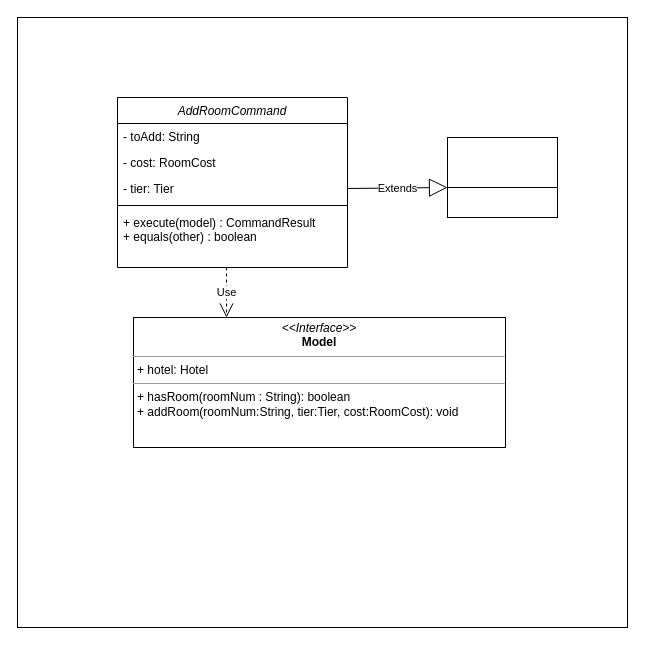
Some shapes in this 645 by 645 pixel diagram are drawn without their labels. The shapes that lost their labels are listed below. From the top down, each one's centre as x and y in pixels, then its label:
At (502,162): "{abstract} Command".
At (502,202): "+ execute(model)".
